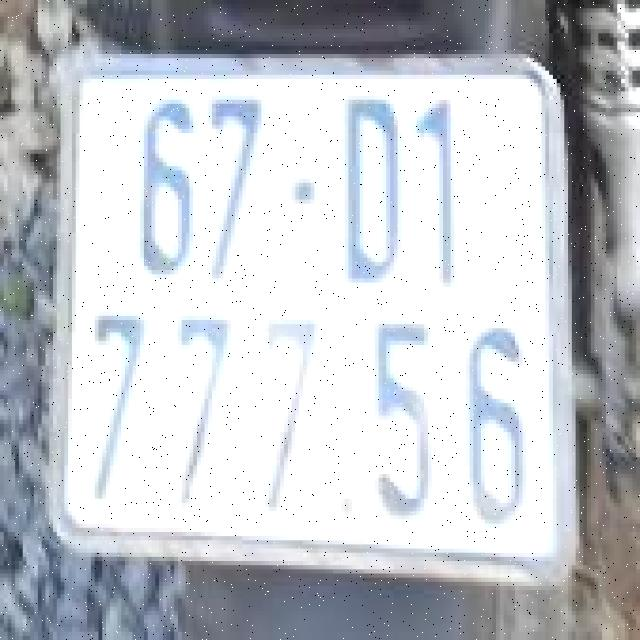1: (413, 81, 473, 289)
5: (360, 312, 443, 532)
6: (454, 308, 534, 544), (138, 87, 199, 283)
7: (80, 295, 155, 524), (256, 299, 324, 532), (163, 299, 235, 511), (205, 87, 265, 291)
D: (326, 81, 405, 301)
